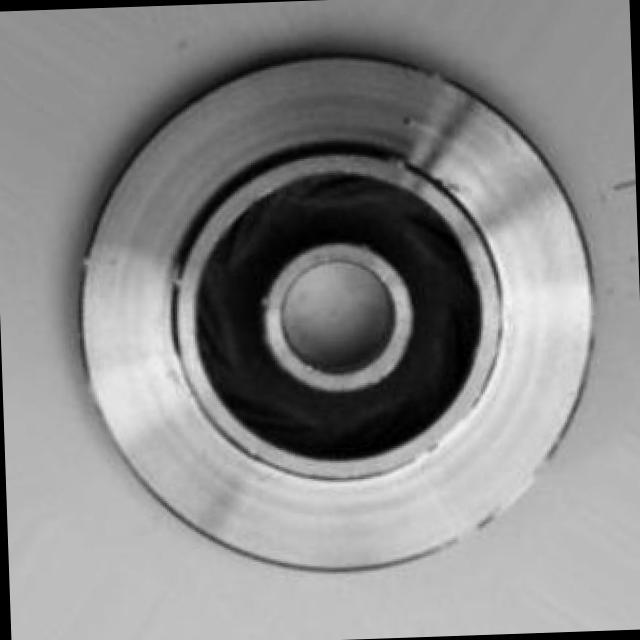Defect: (393, 108, 422, 133)
